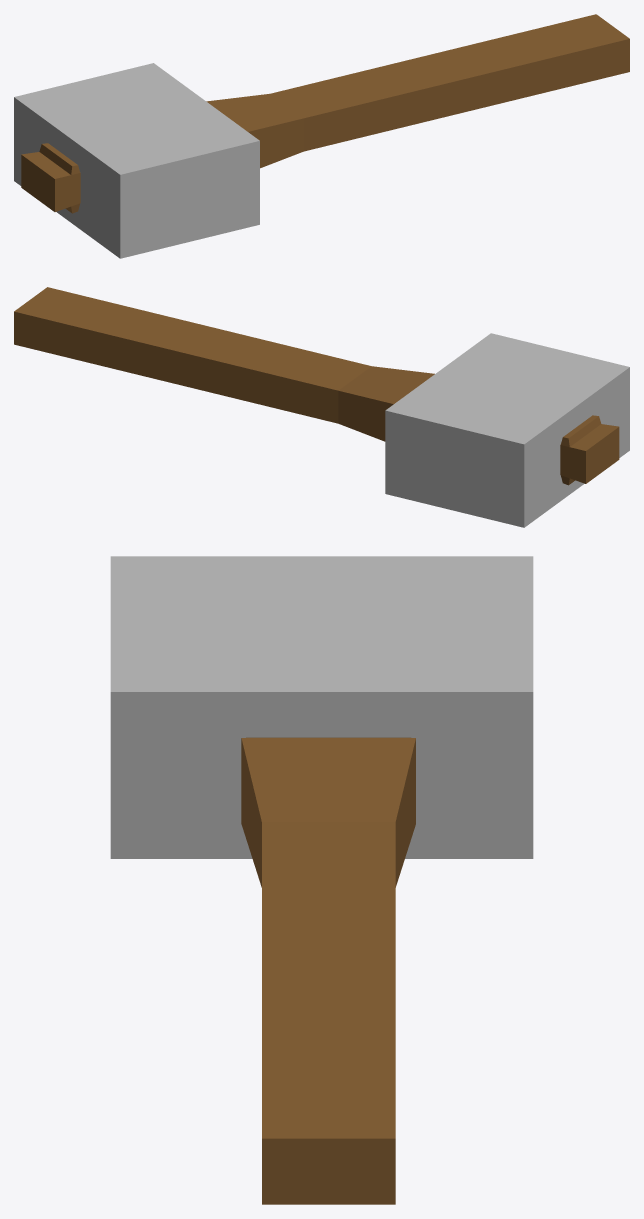
Rendered from hammer.fbx.
The picture shows the model from 3 angles, top to bottom: view 1: azimuth 30°, elevation 25°; view 2: azimuth 150°, elevation 25°; view 3: azimuth 270°, elevation 25°; orthographic projection. The views are drawn at different scales.
Visible parts, largest first — view 1: Cube.003; view 2: Cube.003; view 3: Cube.003.
Part boxes in pixels (<box>): Cube.003: <box>14,14,629,258</box>; Cube.003: <box>14,287,629,527</box>; Cube.003: <box>110,556,533,1204</box>.
Bounding box in the file's own units: 72.48 × 10.11 × 23.2.
